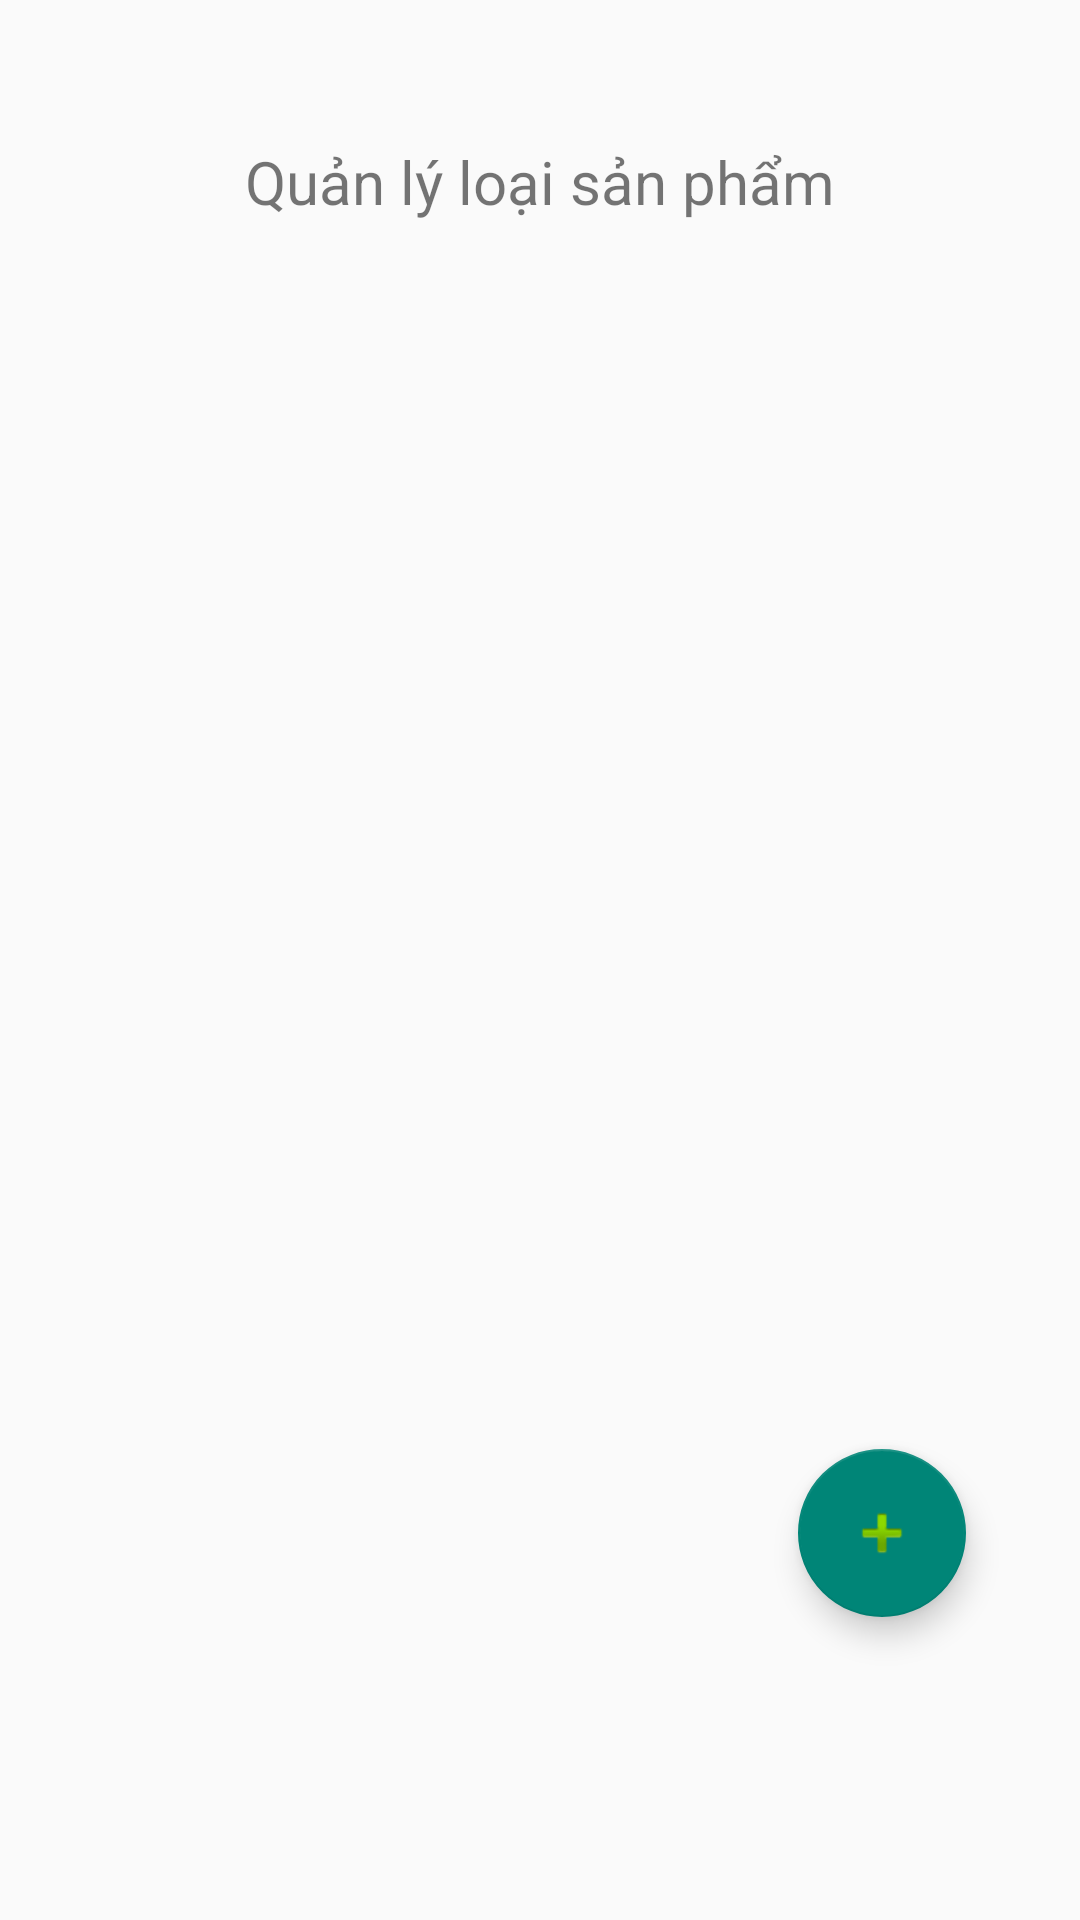

Icons on this 1080px×1920px Android screen, each with its box as detection(x1, y1, x2, y2):
add: detection(798, 1449, 966, 1617)
